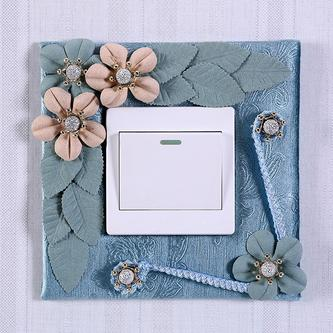switch: (114, 126, 228, 215)
